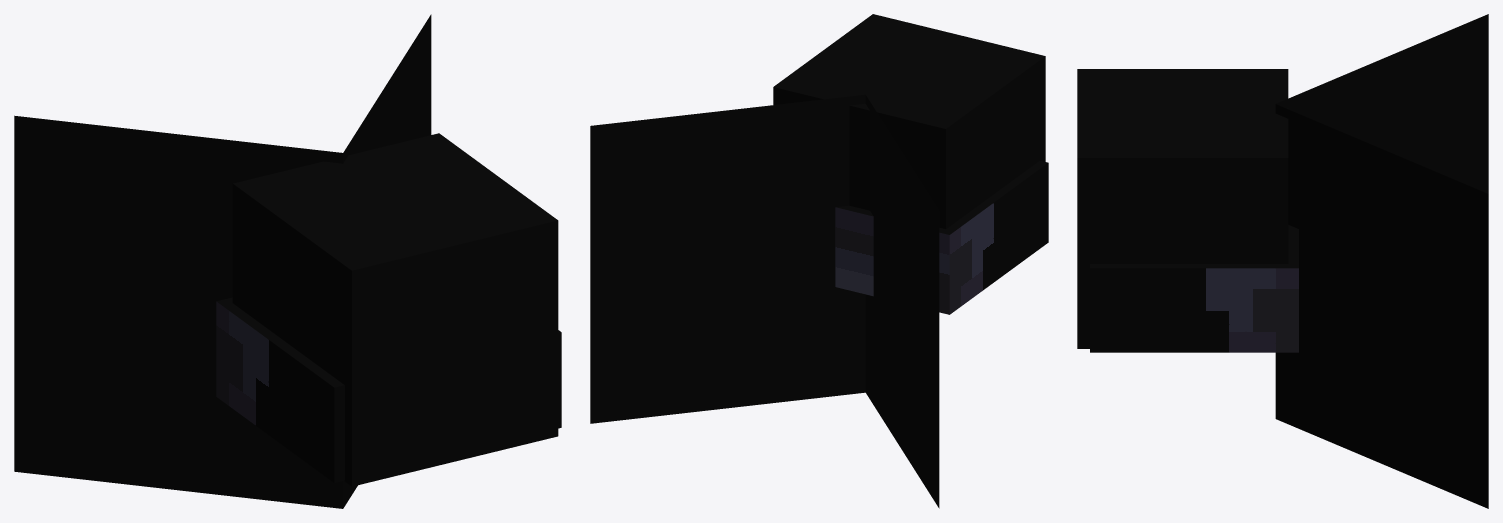
Rendered from sl_slayer_outfit__head.glb.
3 views of the same model, side by side, from view 1: azimuth 30°, elevation 25°; view 2: azimuth 150°, elevation 25°; view 3: azimuth 270°, elevation 25° (orthographic). The views are drawn at different scales.
Visible parts, largest first — view 1: bb_slayer_outfit; view 2: bb_slayer_outfit; view 3: bb_slayer_outfit.
Part boxes in pixels (left/top/right/bottom): bb_slayer_outfit: left=14, top=14, right=561, bottom=508; bb_slayer_outfit: left=590, top=14, right=1048, bottom=508; bb_slayer_outfit: left=1077, top=14, right=1488, bottom=508.
Size of the model in its own units: 1.15 by 0.9375 by 1.11.
1 material, 1 textured.
